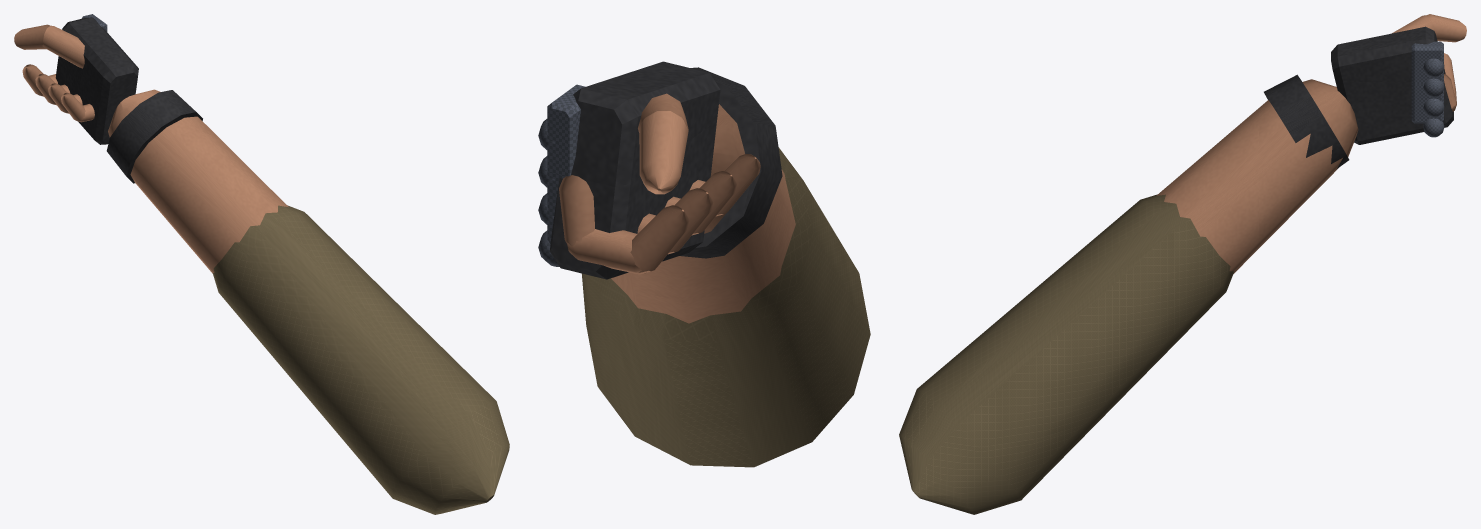
File: fp_hands_t_knife.glb
The picture shows the model from 3 angles, left to right: view 1: azimuth 30°, elevation 25°; view 2: azimuth 150°, elevation 25°; view 3: azimuth 270°, elevation 25°; orthographic projection. The views are drawn at different scales.
Parts seen in each view (by area): view 1: WeaponRoot; view 2: WeaponRoot; view 3: WeaponRoot.
Part boxes in pixels (<box>): WeaponRoot: <box>14,14,509,514</box>; WeaponRoot: <box>538,61,870,467</box>; WeaponRoot: <box>899,14,1466,514</box>.
Bounding box in the file's own units: 0.2176 × 0.2974 × 0.3862.
4 materials, 4 textured.
